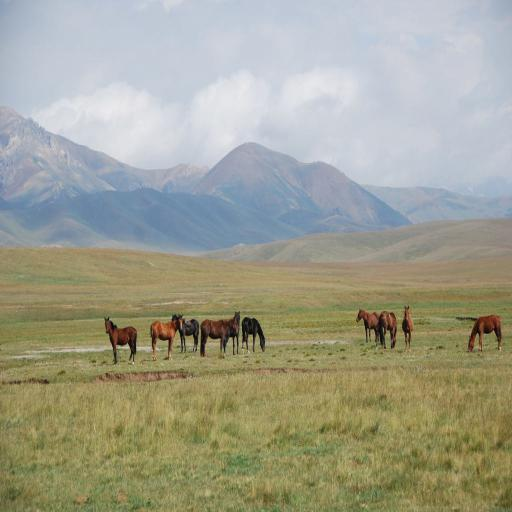horse: (104, 316, 138, 366), (199, 318, 240, 358), (150, 312, 184, 360), (468, 314, 502, 354), (170, 312, 201, 353), (240, 315, 266, 353), (356, 308, 380, 343), (378, 310, 398, 352), (226, 310, 240, 358), (401, 306, 414, 353)
